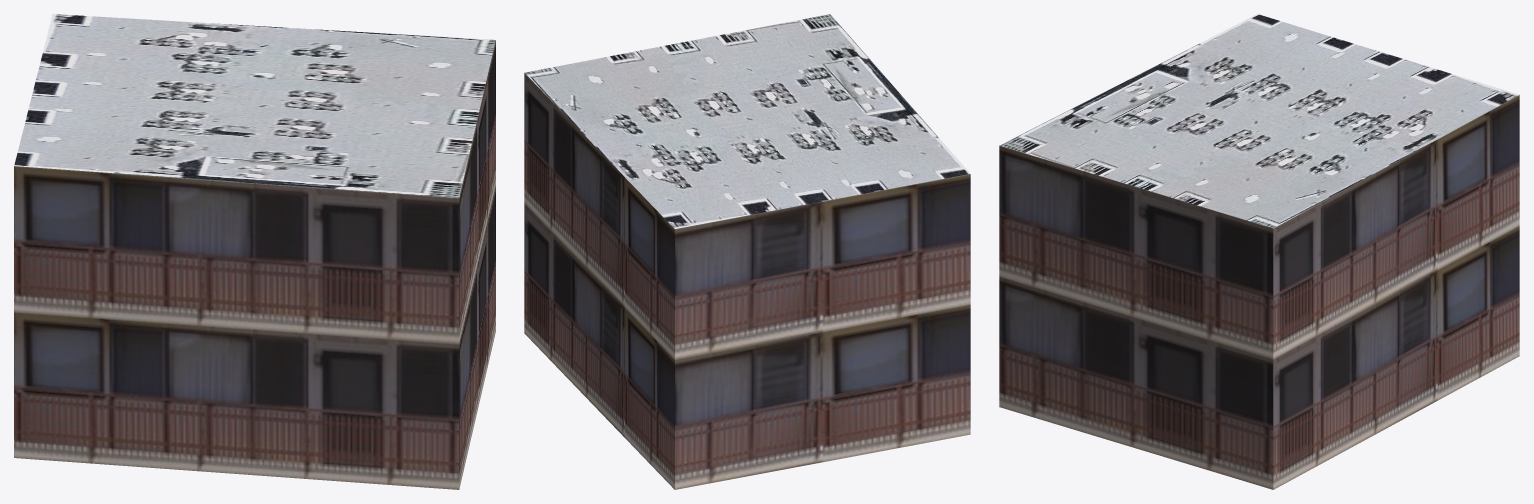
Rendered from ResTex__2999.fbx.
The picture shows the model from 3 angles, left to right: view 1: azimuth 30°, elevation 25°; view 2: azimuth 150°, elevation 25°; view 3: azimuth 270°, elevation 25°; orthographic projection. The views are drawn at different scales.
Parts seen in each view (by area): view 1: CityEngineMaterial_6_m, CityEngineMaterial_m; view 2: CityEngineMaterial_6_m, CityEngineMaterial_m; view 3: CityEngineMaterial_6_m, CityEngineMaterial_m.
Part boxes in pixels (x1=…): CityEngineMaterial_6_m: x1=14, y1=40, x2=495, y2=489; CityEngineMaterial_m: x1=14, y1=14, x2=495, y2=197; CityEngineMaterial_6_m: x1=524, y1=73, x2=970, y2=489; CityEngineMaterial_m: x1=525, y1=14, x2=970, y2=228; CityEngineMaterial_6_m: x1=999, y1=95, x2=1519, y2=489; CityEngineMaterial_m: x1=1000, y1=14, x2=1518, y2=228.
Bounding box in the file's own units: 10.55 × 6 × 10.82.
2 materials, 2 textured.
